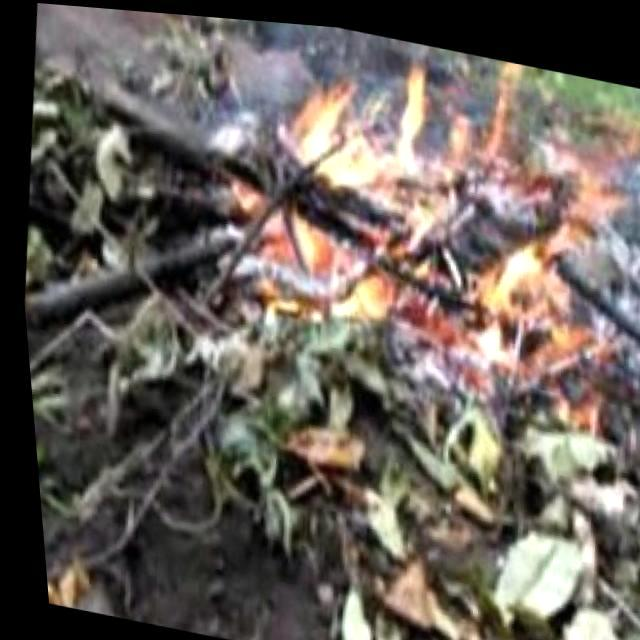fire: (218, 14, 640, 386)
